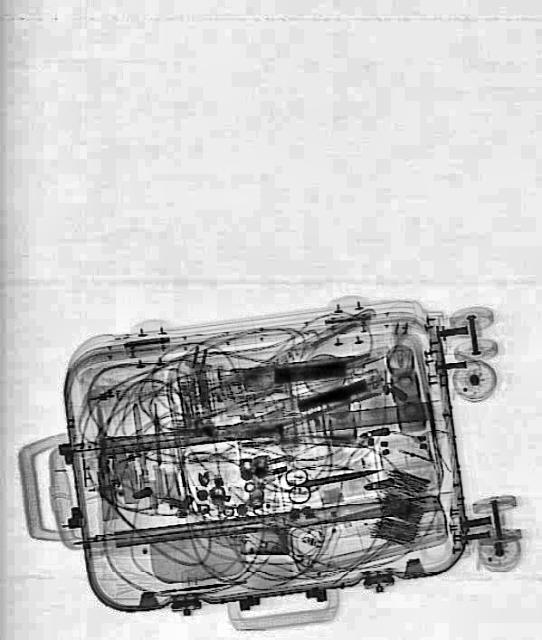Scissors: (282, 451, 386, 503)
